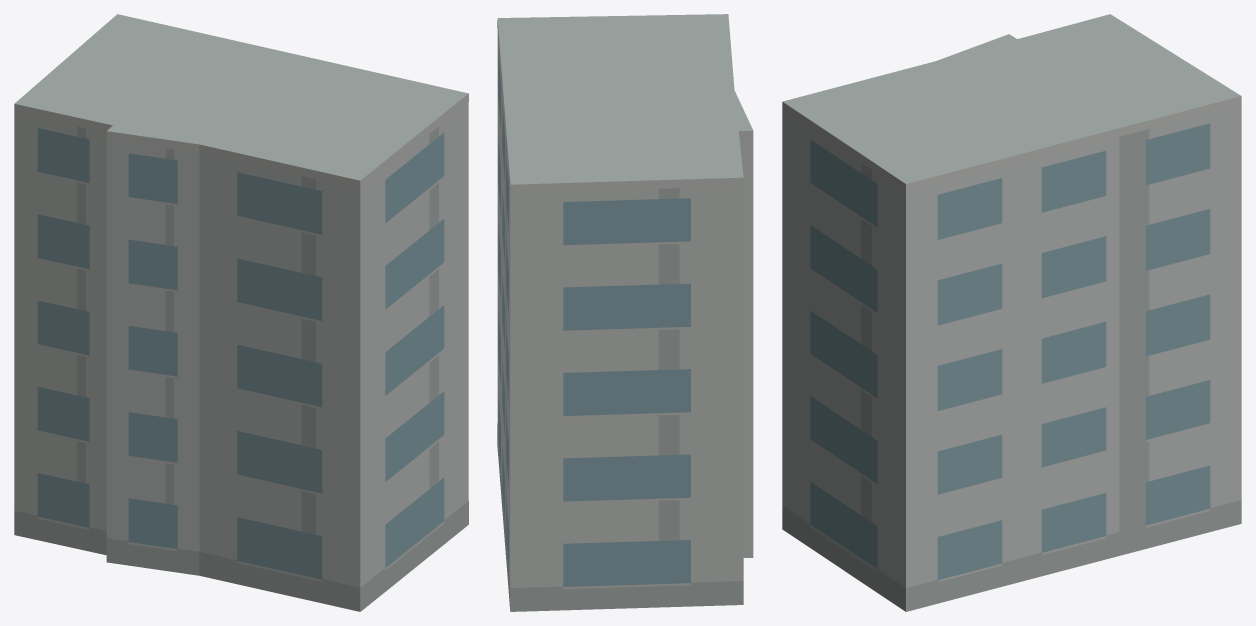
Rendered from survey-upis-32724540.glb.
3 renders of one model, left to right at view 1: azimuth 30°, elevation 25°; view 2: azimuth 150°, elevation 25°; view 3: azimuth 270°, elevation 25°, orthographic.
Parts seen in each view (by area): view 1: survey-upis-32724540.tmp; view 2: survey-upis-32724540.tmp; view 3: survey-upis-32724540.tmp.
Part boxes in pixels (x1,y1,x2,y2): survey-upis-32724540.tmp: (14, 14, 468, 611); survey-upis-32724540.tmp: (497, 14, 753, 611); survey-upis-32724540.tmp: (782, 14, 1241, 611).
Bounding box in the file's own units: 10.24 × 12 × 11.68.
